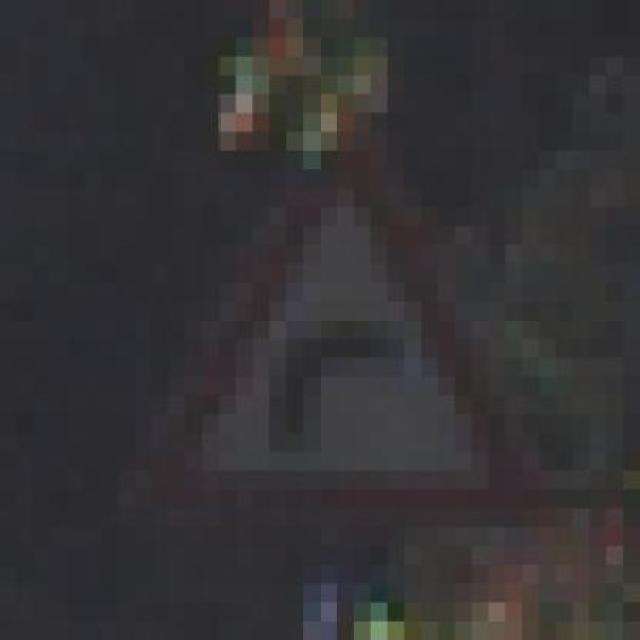Dangerous Rright Curve Ahead: (152, 75, 539, 528)
